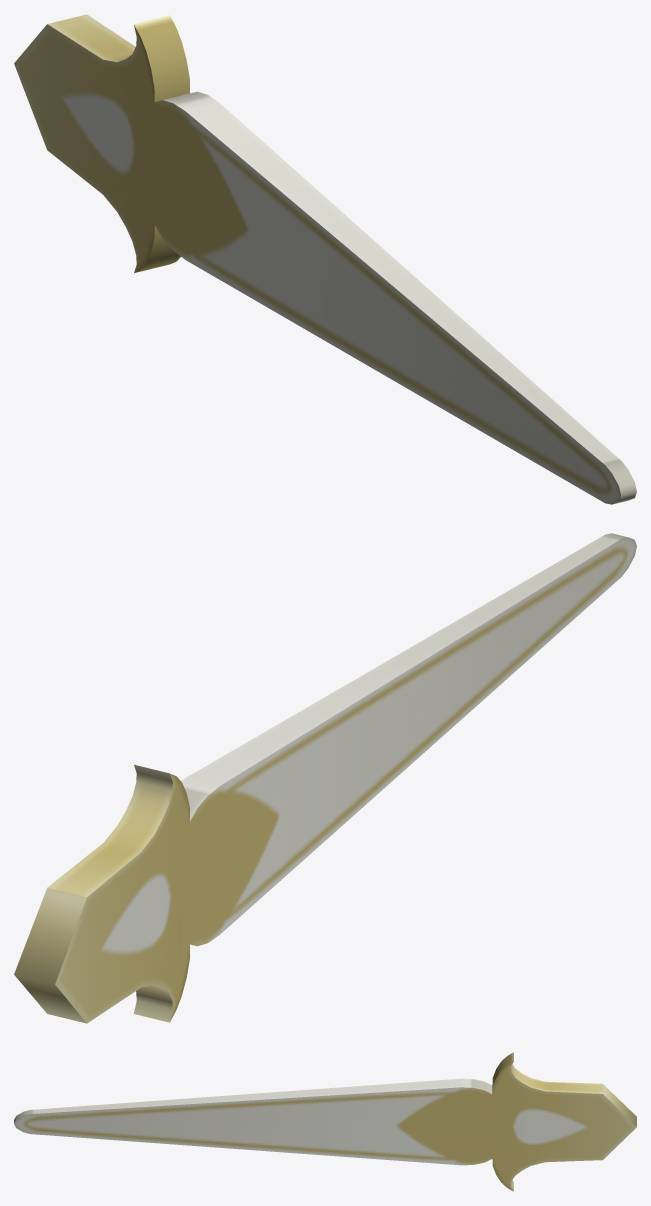
File: Paper.glb
The picture shows the model from 3 angles, top to bottom: view 1: azimuth 30°, elevation 25°; view 2: azimuth 150°, elevation 25°; view 3: azimuth 270°, elevation 25°; orthographic projection. The views are drawn at different scales.
Visible parts, largest first — view 1: SkillObj_Emilie_ShowPaper_LOD0; view 2: SkillObj_Emilie_ShowPaper_LOD0; view 3: SkillObj_Emilie_ShowPaper_LOD0.
Part boxes in pixels (<box>): SkillObj_Emilie_ShowPaper_LOD0: <box>14,14,636,504</box>; SkillObj_Emilie_ShowPaper_LOD0: <box>14,533,636,1023</box>; SkillObj_Emilie_ShowPaper_LOD0: <box>14,1052,636,1191</box>.
Size of the model in its own units: 0.00563 by 0.0327 by 0.1411.
1 material, 1 textured.
